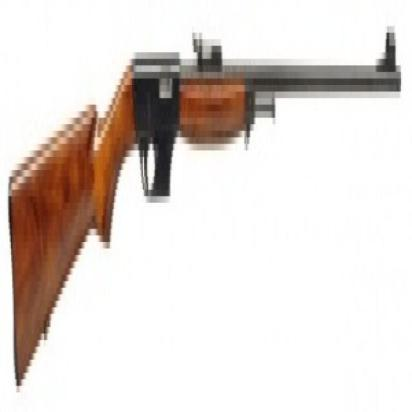Gun: (8, 24, 405, 387)
